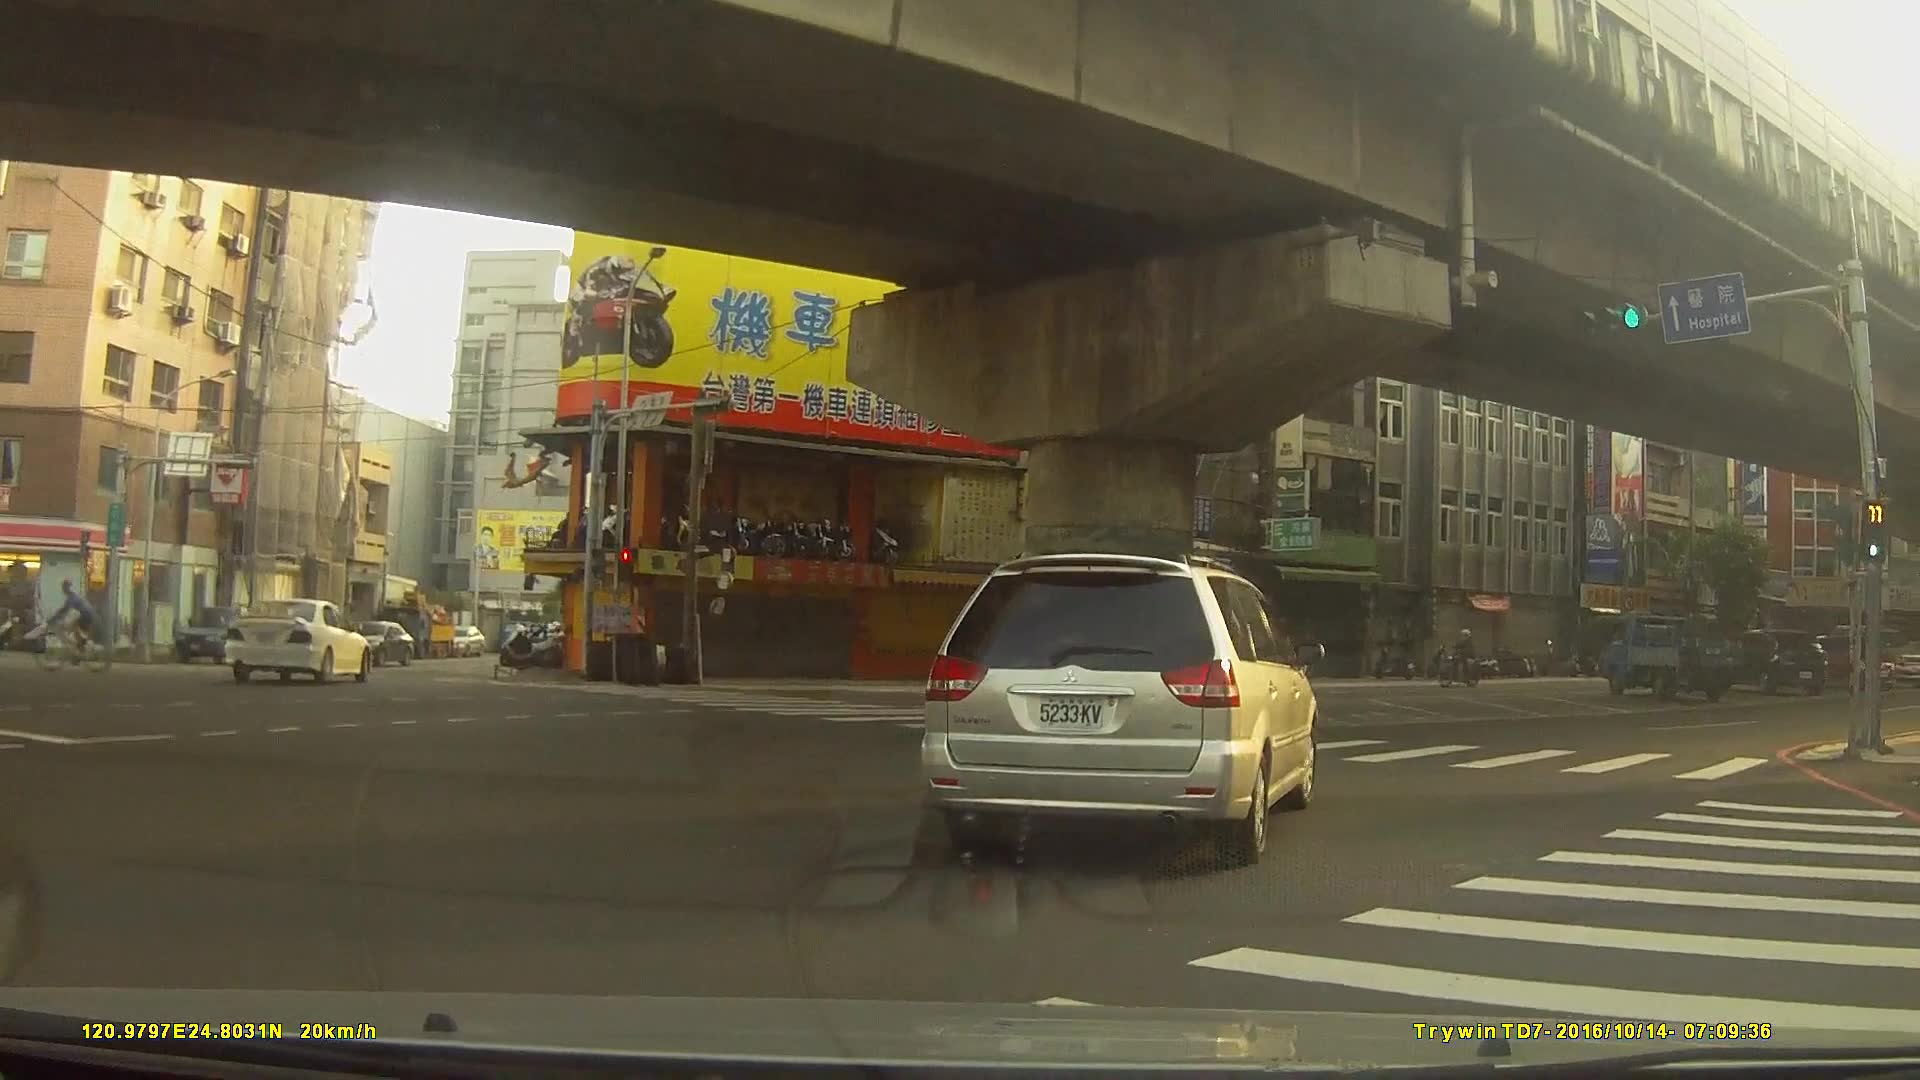rider: (26, 579, 131, 675), (1436, 628, 1490, 688)
vehicle: (916, 551, 1317, 861), (221, 596, 370, 684), (1598, 615, 1745, 703), (1713, 629, 1831, 695), (176, 602, 267, 663), (343, 620, 413, 664), (443, 626, 483, 657)
